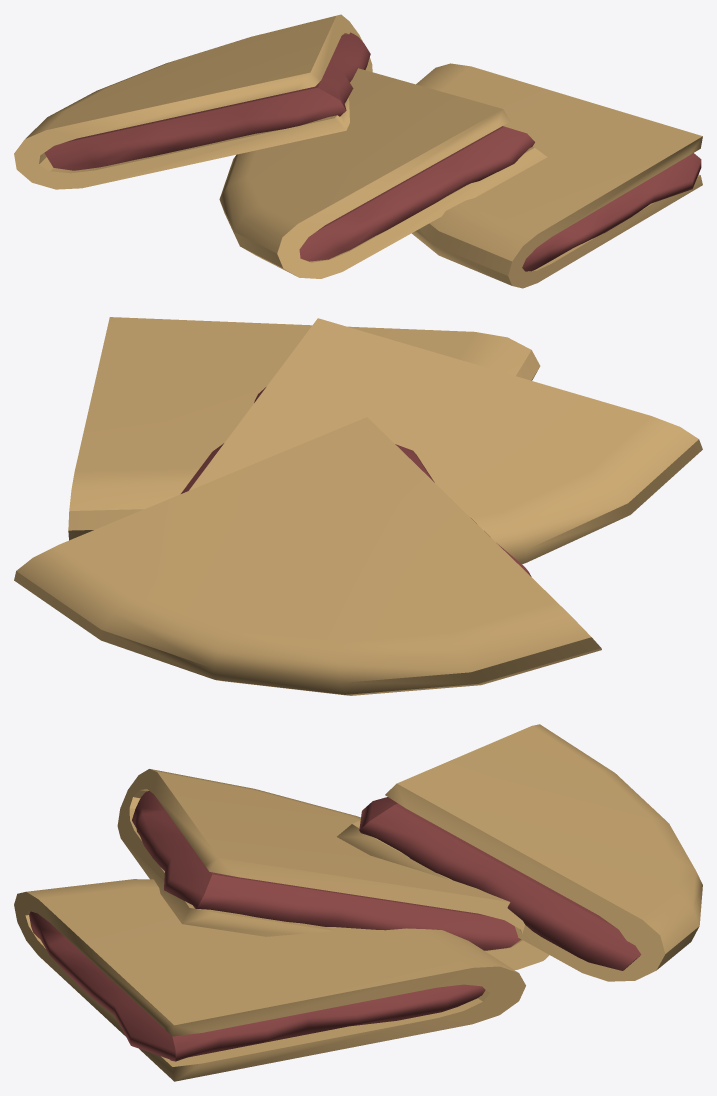
Rendered from uncooked_quesadillas.fbx.
3 views of the same model, one above another, from view 1: azimuth 30°, elevation 25°; view 2: azimuth 150°, elevation 25°; view 3: azimuth 270°, elevation 25° (orthographic). The views are drawn at different scales.
Visible parts, largest first — view 1: shell1, shell, shell2, meat2, meat1, meat; view 2: shell2, shell1, shell; view 3: shell, shell2, shell1, meat1, meat2, meat.
Boxes of the visible parts, x1,y1,x2,y2 form: shell1: (219, 68, 547, 278); shell: (412, 63, 702, 288); shell2: (14, 14, 372, 189); meat2: (44, 32, 370, 170); meat1: (299, 126, 534, 261); meat: (522, 153, 701, 271); shell2: (14, 417, 601, 695); shell1: (189, 318, 702, 564); shell: (68, 317, 540, 540); shell: (14, 879, 525, 1081); shell2: (337, 724, 702, 981); shell1: (117, 769, 549, 969); meat1: (132, 791, 520, 950); meat2: (359, 797, 641, 970); meat: (29, 911, 485, 1061).
Size of the model in its own units: 36.74 by 7.76 by 35.63.
